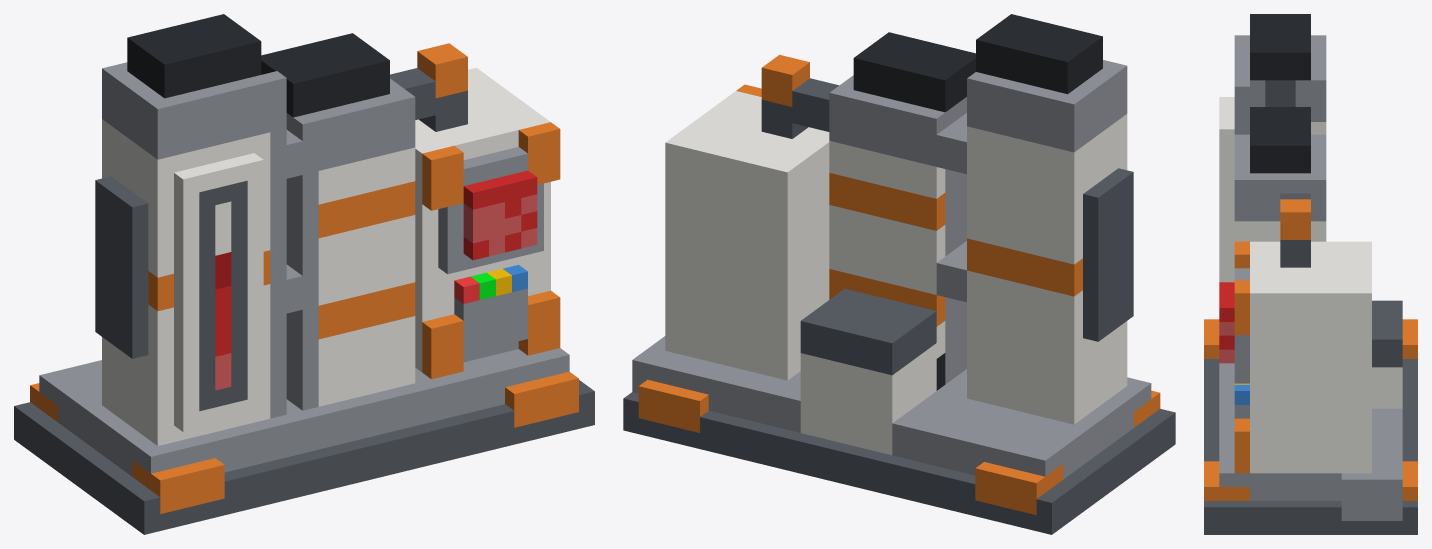
The model's file is Sabatier_reactor.obj.
The picture shows the model from 3 angles, left to right: view 1: azimuth 30°, elevation 25°; view 2: azimuth 150°, elevation 25°; view 3: azimuth 270°, elevation 25°; orthographic projection. The views are drawn at different scales.
Bounding box in the file's own units: 2.8 × 2.6 × 1.4.
Materials: 1 (1 with a texture image).
